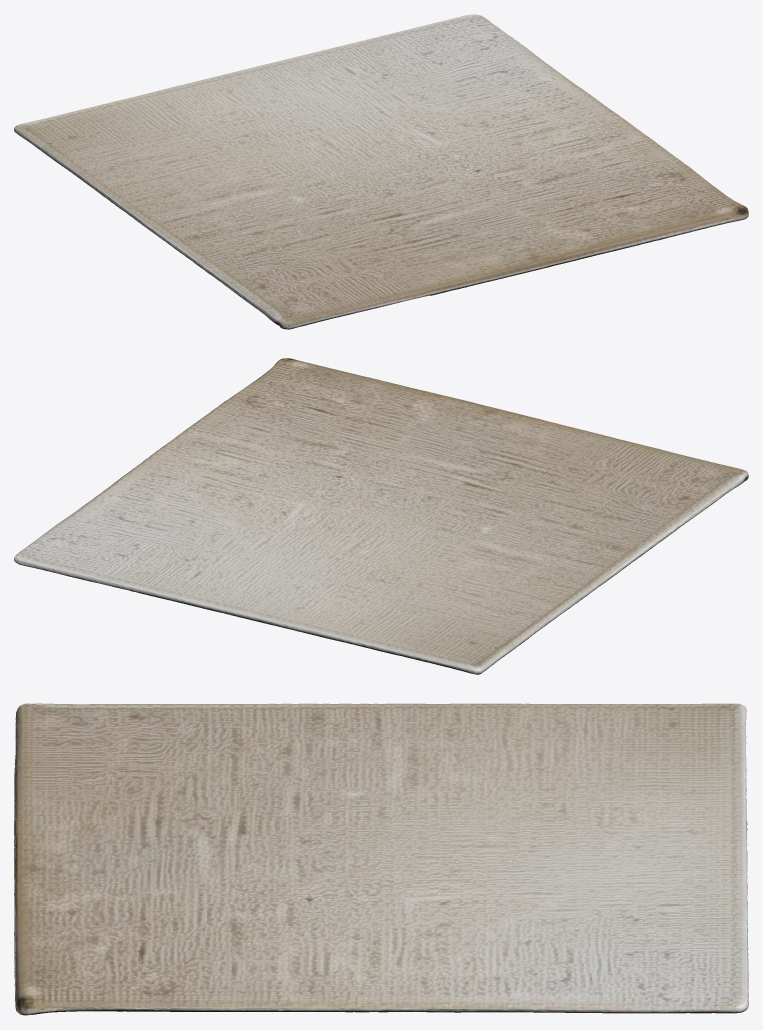
The model's file is ast_2e37968e66b8.glb.
The picture shows the model from 3 angles, top to bottom: view 1: azimuth 30°, elevation 25°; view 2: azimuth 150°, elevation 25°; view 3: azimuth 270°, elevation 25°; orthographic projection. The views are drawn at different scales.
Parts seen in each view (by area): view 1: geometry_0; view 2: geometry_0; view 3: geometry_0.
Part boxes in pixels (bbox=[...]): geometry_0: bbox=[14, 14, 748, 329]; geometry_0: bbox=[14, 358, 748, 674]; geometry_0: bbox=[14, 703, 748, 1015].
Size of the model in its own units: 0.9834 by 0.0188 by 0.9982.
1 material, 1 textured.
